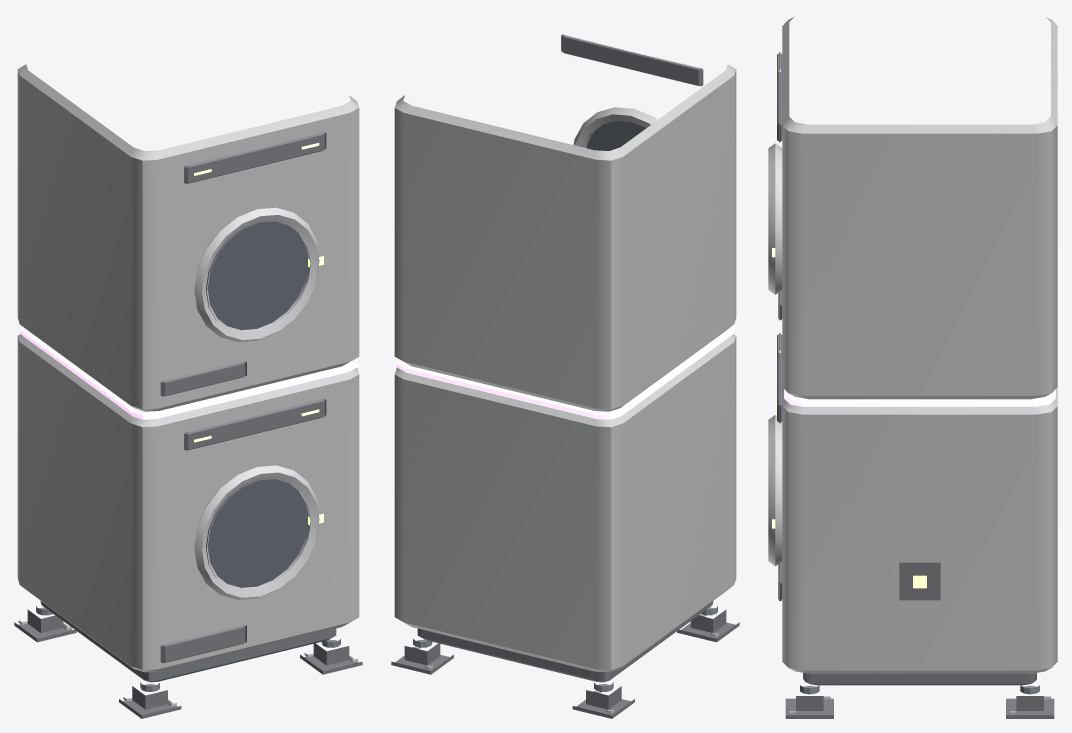
Rendered from iter_01.glb.
3 views of the same model, side by side, from view 1: azimuth 30°, elevation 25°; view 2: azimuth 150°, elevation 25°; view 3: azimuth 270°, elevation 25° (orthographic). The views are drawn at different scales.
Visible parts, largest first — view 1: Dryer_Shell, Washer_Shell, Washer_Door_Glass, Dryer_Door_Glass, Control_Strip, Washer_Door_Ring, Dryer_Door_Ring, Accent_Band, Plinth, Water_Drawer, Floor_Plates, Floor_Clamps (+1 smaller); view 2: Dryer_Shell, Washer_Shell, Accent_Band, Control_Strip, Plinth, Floor_Plates, Floor_Clamps, Dryer_Door_Ring, Dryer_Door_Glass; view 3: Dryer_Shell, Washer_Shell, Plinth, Accent_Band, Dryer_Door_Ring, Washer_Door_Ring, Sprocket_Port, Floor_Plates, Control_Strip, Floor_Clamps.
Boxes of the visible parts, x1,y1,x2,y2 form: Dryer_Shell: [17, 64, 359, 411]; Washer_Shell: [17, 334, 359, 672]; Washer_Door_Glass: [206, 477, 307, 587]; Dryer_Door_Glass: [206, 219, 307, 330]; Control_Strip: [184, 132, 326, 450]; Washer_Door_Ring: [194, 465, 319, 599]; Dryer_Door_Ring: [194, 207, 319, 342]; Accent_Band: [19, 325, 357, 419]; Plinth: [40, 601, 336, 682]; Water_Drawer: [160, 625, 246, 663]; Floor_Plates: [14, 622, 362, 718]; Floor_Clamps: [27, 609, 349, 709]; Dryer_Shell: [394, 64, 736, 411]; Washer_Shell: [394, 334, 736, 672]; Accent_Band: [396, 325, 734, 419]; Control_Strip: [561, 34, 703, 86]; Plinth: [417, 601, 713, 682]; Floor_Plates: [391, 622, 739, 718]; Floor_Clamps: [404, 609, 726, 709]; Dryer_Door_Ring: [573, 107, 657, 148]; Dryer_Door_Glass: [586, 121, 646, 150]; Dryer_Shell: [782, 16, 1057, 399]; Washer_Shell: [782, 387, 1057, 673]; Plinth: [803, 673, 1036, 685]; Accent_Band: [784, 389, 1055, 406]; Dryer_Door_Ring: [768, 143, 782, 294]; Washer_Door_Ring: [768, 415, 782, 566]; Sprocket_Port: [899, 562, 940, 600]; Floor_Plates: [785, 698, 1054, 718]; Control_Strip: [777, 52, 782, 423]; Floor_Clamps: [796, 696, 1043, 710].
Bounding box in the file's own units: 0.814 × 1.9 × 0.8409.
